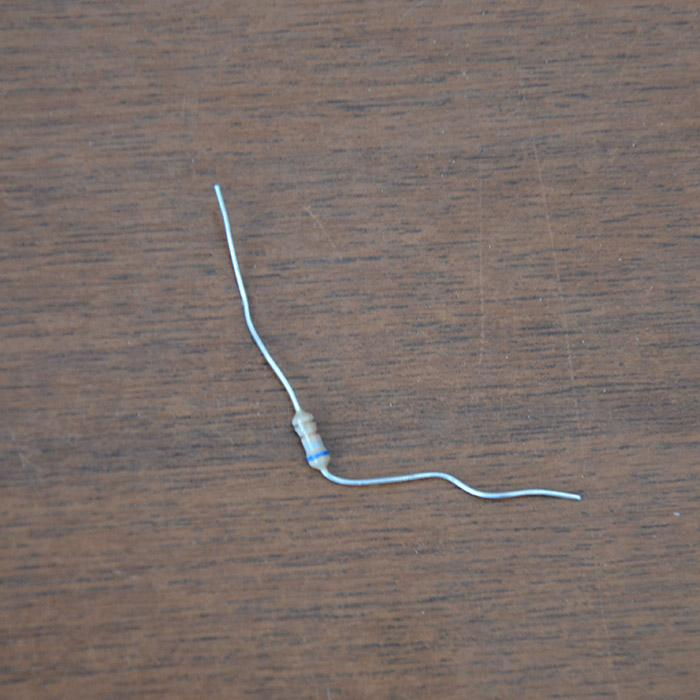resistor: (282, 412, 337, 477)
